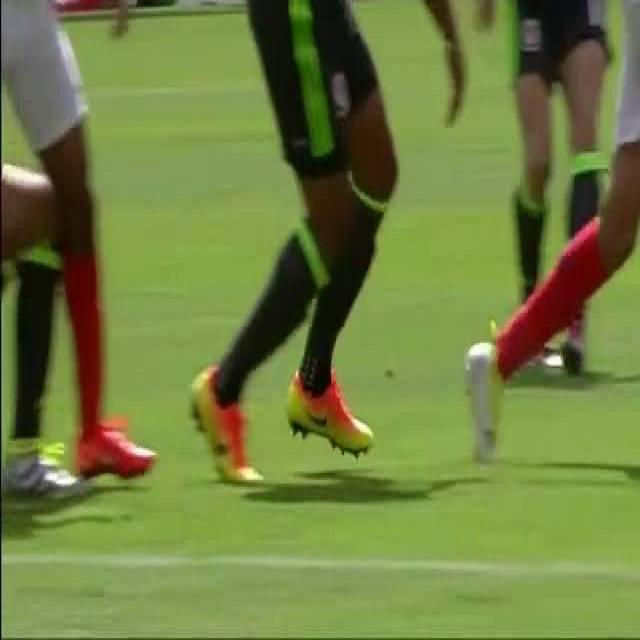player-white: (187, 0, 462, 500), (464, 0, 640, 462), (0, 0, 155, 476), (485, 0, 640, 378)
